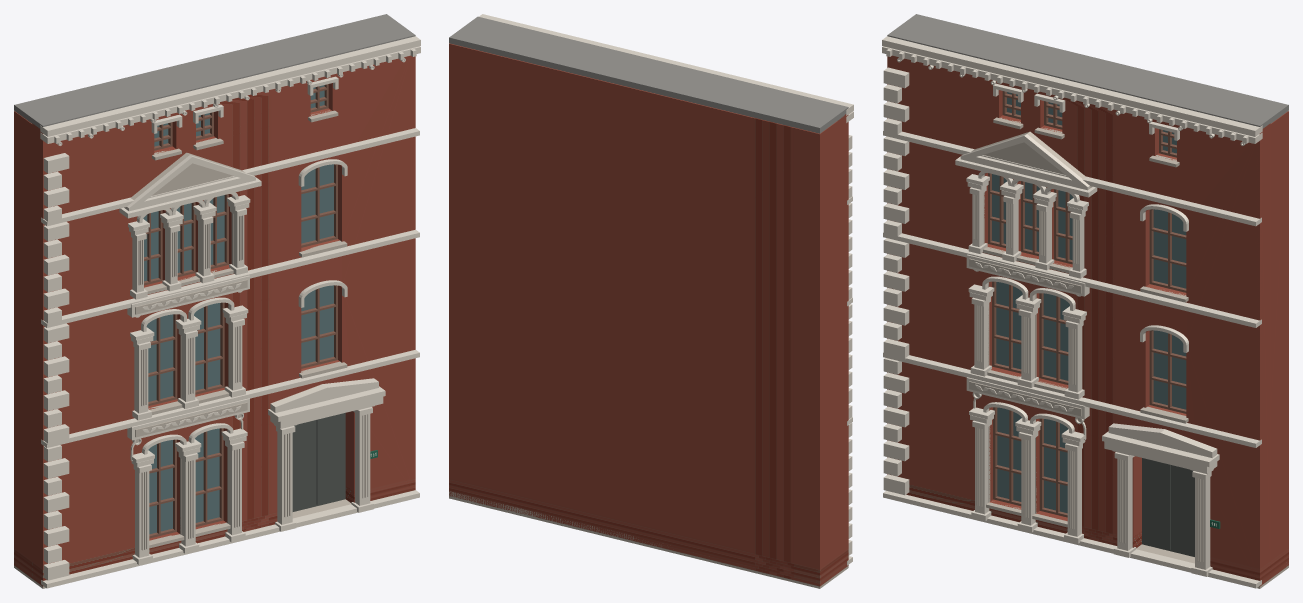
File: huangpu-mitsui-bussan-pediment-front-raw.glb
The picture shows the model from 3 angles, left to right: view 1: azimuth 30°, elevation 25°; view 2: azimuth 150°, elevation 25°; view 3: azimuth 330°, elevation 25°; orthographic projection.
Parts seen in each view (by area): view 1: 三井洋行四川中路东立面南端山花与入口; view 2: 三井洋行四川中路东立面南端山花与入口; view 3: 三井洋行四川中路东立面南端山花与入口.
Boxes of the visible parts, left/top/right/bottom form: 三井洋行四川中路东立面南端山花与入口: left=14, top=14, right=420, bottom=588; 三井洋行四川中路东立面南端山花与入口: left=449, top=14, right=853, bottom=588; 三井洋行四川中路东立面南端山花与入口: left=882, top=14, right=1288, bottom=588.
Bounding box in the file's own units: 11.51 × 13.65 × 2.1.
Materials: 9 (1 with a texture image).
